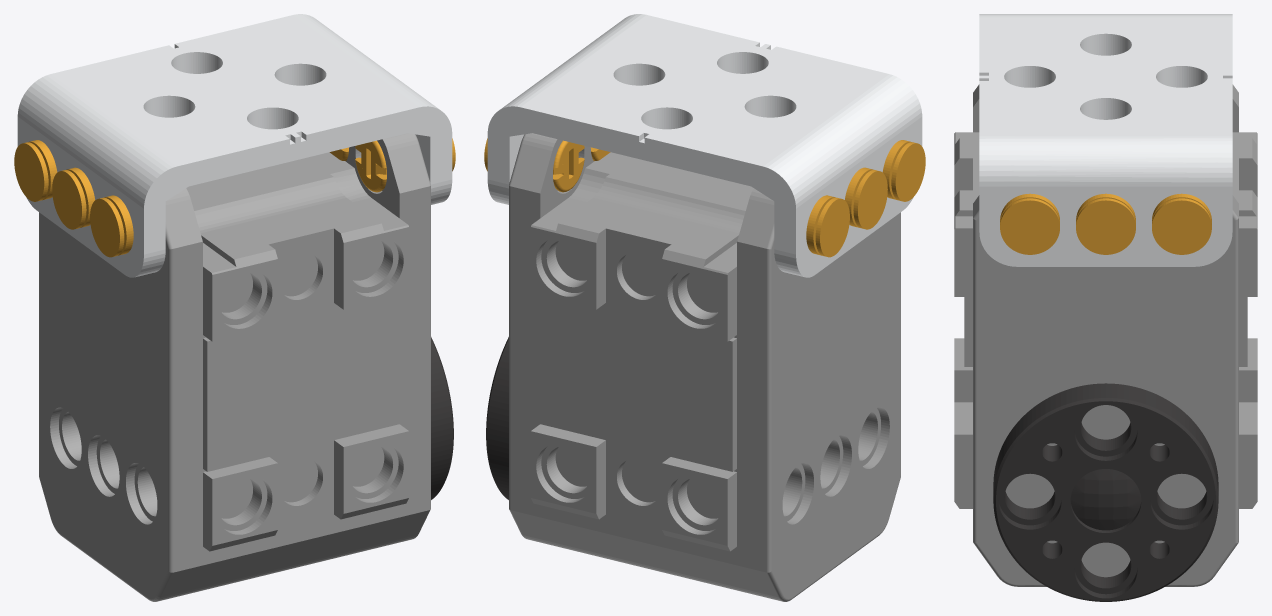
Rendered from section_2.dae.
3 renders of one model, left to right at view 1: azimuth 30°, elevation 25°; view 2: azimuth 150°, elevation 25°; view 3: azimuth 270°, elevation 25°, orthographic.
Visible parts, largest first — view 1: body, short_U, insert (×3), horn, base (×2); view 2: body, short_U, insert (×3), horn, base (×2); view 3: body, short_U, horn, insert (×3).
Boxes of the visible parts, x1,y1,x2,y2 form: body: (39,133,430,601); short_U: (17,14,452,277); insert (×3): (14,142,124,257); horn: (431,337,453,499); base (×2): (104,140,386,255); body: (509,133,900,601); short_U: (487,14,922,277); insert (×3): (815,142,925,257); horn: (486,337,508,499); base (×2): (553,140,835,255); body: (954,84,1257,586); short_U: (979,14,1232,266); horn: (993,383,1218,601); insert (×3): (1000,198,1211,254).
Size of the model in its own units: 0.0307 by 0.024 by 0.039.
